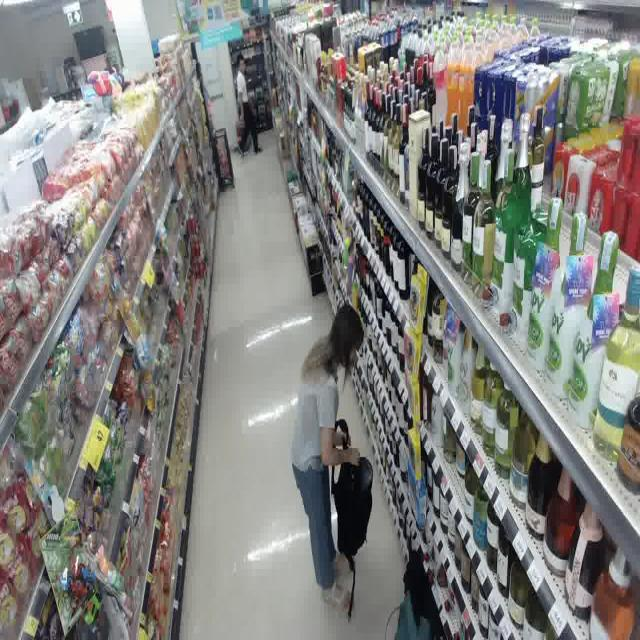Normal: (281, 272, 386, 630)
